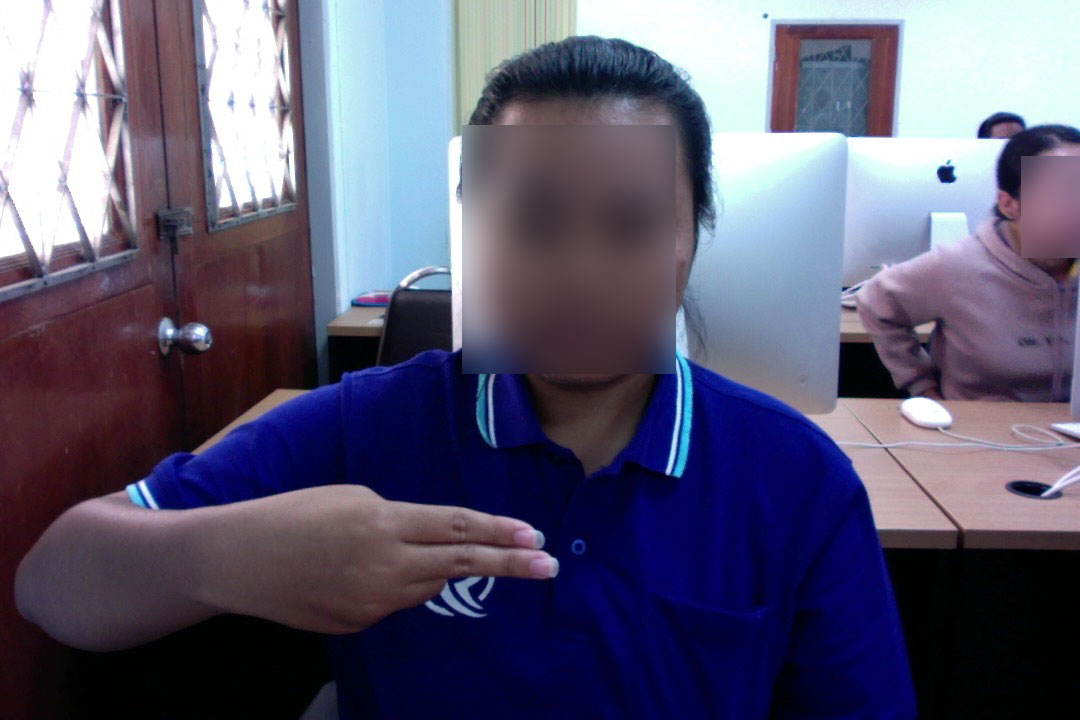hor: (212, 479, 562, 636)
